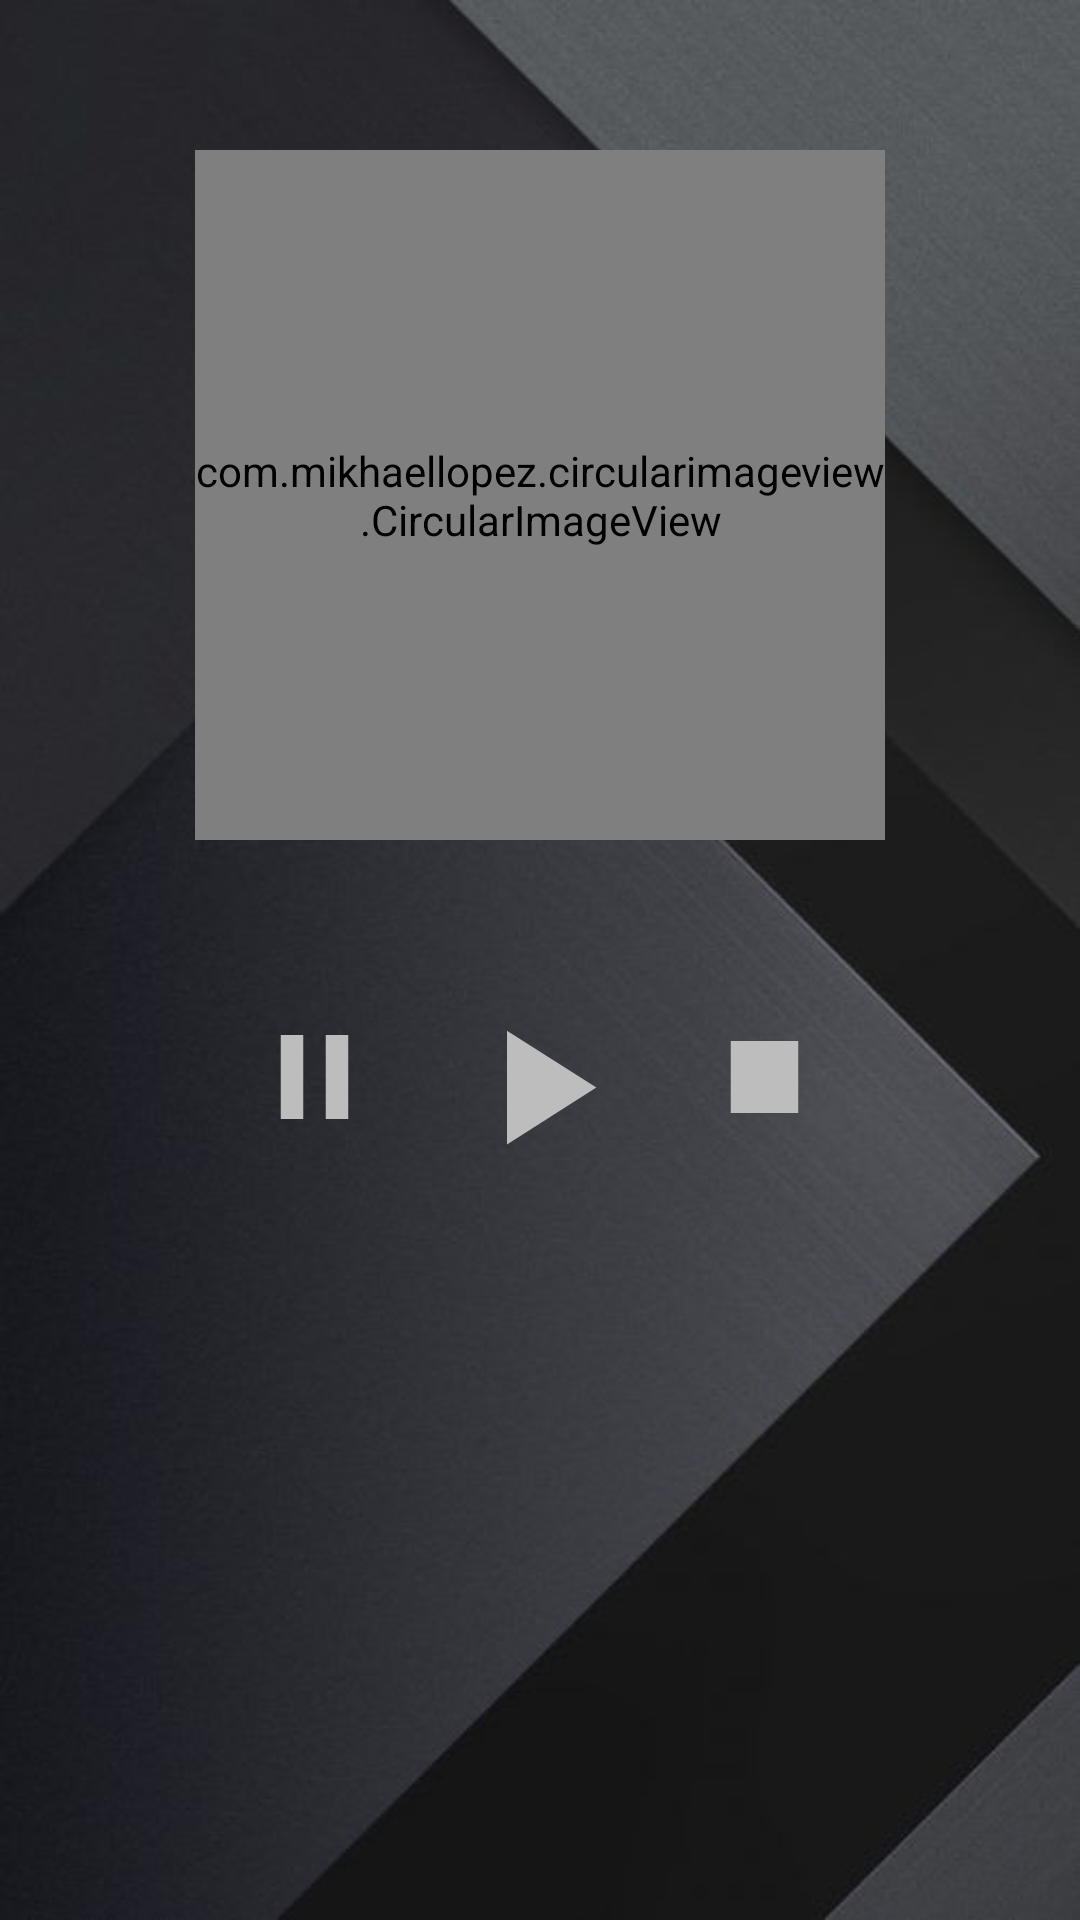

Icons on this 1080 × 1920 Android screen, each with its box as bbox(x1, y1, x2, y2):
pause: bbox(280, 1035, 349, 1119)
play arrow: bbox(507, 1031, 596, 1144)
stop: bbox(731, 1041, 799, 1113)
